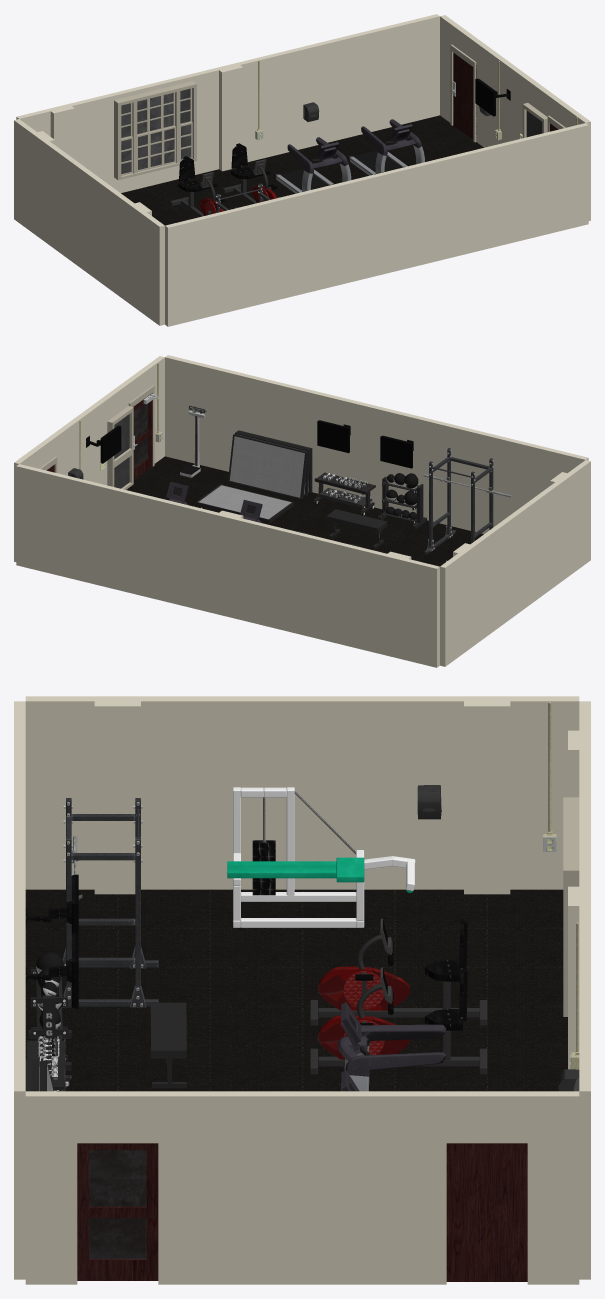
Rendered from modular_gym.glb.
The picture shows the model from 3 angles, top to bottom: view 1: azimuth 30°, elevation 25°; view 2: azimuth 150°, elevation 25°; view 3: azimuth 270°, elevation 25°; orthographic projection. The views are drawn at different scales.
Parts seen in each view (by area): view 1: Wallswall5, Wallswall6, Wallswall9, Wallswall7, Wallswall8, Wallswall11, Wallswall10, WallspillarWall2, WindowssquareWindow3, WallspillarWall4, WallspillarWall3, Wallswall2 (+24 smaller); view 2: WallspillarWall1, WallspillarWall2, Wallswall1, Wallswall11, Wallswall10, Wallswall9, Wallswall6, WallspillarWall3, Wallswall7, Wallswall8, WallspillarWall4, Wallswall2 (+31 smaller); view 3: Wallswall3, WallspillarWall4, WallspillarWall3, Wallswall2, polySurface1, polySurface12, doorDoors, Leg_Machine, Indoor_Bike1, polySurface9, Bolt15, Indoor_Bike (+50 smaller).
Part boxes in pixels (x1=…): Wallswall5: x1=165, y1=205, x2=252, y2=326; Wallswall6: x1=249, y1=184, x2=336, y2=306; Wallswall9: x1=502, y1=123, x2=588, y2=244; Wallswall7: x1=333, y1=164, x2=420, y2=285; Wallswall8: x1=418, y1=143, x2=504, y2=265; Wallswall11: x1=353, y1=14, x2=439, y2=135; Wallswall10: x1=269, y1=34, x2=355, y2=156; WallspillarWall2: x1=185, y1=55, x2=271, y2=174; WindowssquareWindow3: x1=114, y1=81, x2=196, y2=180; WallspillarWall4: x1=111, y1=190, x2=164, y2=325; WallspillarWall3: x1=14, y1=119, x2=67, y2=254; Wallswall2: x1=62, y1=154, x2=115, y2=289; WallspillarWall1: x1=352, y1=546, x2=439, y2=667; WallspillarWall2: x1=184, y1=505, x2=271, y2=626; Wallswall1: x1=268, y1=525, x2=355, y2=647; Wallswall11: x1=16, y1=464, x2=102, y2=585; Wallswall10: x1=100, y1=484, x2=186, y2=606; Wallswall9: x1=165, y1=355, x2=251, y2=471; Wallswall6: x1=417, y1=416, x2=504, y2=533; WallspillarWall3: x1=440, y1=531, x2=493, y2=666; Wallswall7: x1=333, y1=396, x2=419, y2=513; Wallswall8: x1=249, y1=375, x2=335, y2=493; WallspillarWall4: x1=537, y1=460, x2=590, y2=595; Wallswall2: x1=489, y1=495, x2=542, y2=630; Wallswall3: x1=210, y1=1091, x2=394, y2=1284; WallspillarWall4: x1=25, y1=696, x2=210, y2=894; WallspillarWall3: x1=394, y1=696, x2=579, y2=894; Wallswall2: x1=210, y1=696, x2=394, y2=889; polySurface1: x1=25, y1=1091, x2=210, y2=1284; polySurface12: x1=394, y1=1091, x2=579, y2=1284; doorDoors: x1=446, y1=1143, x2=527, y2=1281; Leg_Machine: x1=227, y1=787, x2=415, y2=927; Indoor_Bike1: x1=310, y1=918, x2=487, y2=1025; polySurface9: x1=77, y1=1143, x2=158, y2=1280; Bolt15: x1=62, y1=798, x2=158, y2=1007; Indoor_Bike: x1=310, y1=967, x2=487, y2=1074.
Size of the model in its own units: 41 by 9.01 by 25.
Materials: 18 (18 with a texture image).
